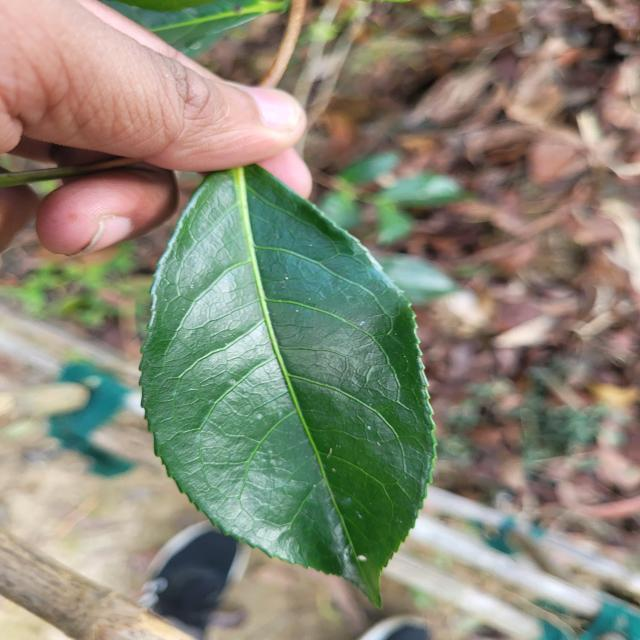Category D 7+ days, Not for Tea: (136, 138, 451, 612)
